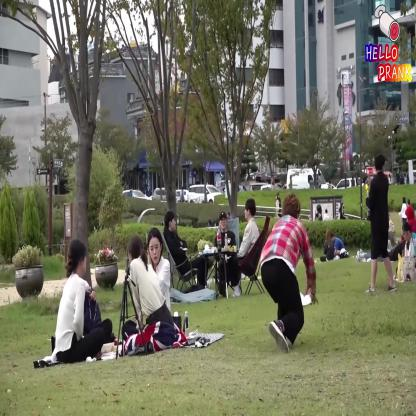Fall_Down: (256, 188, 326, 360)
